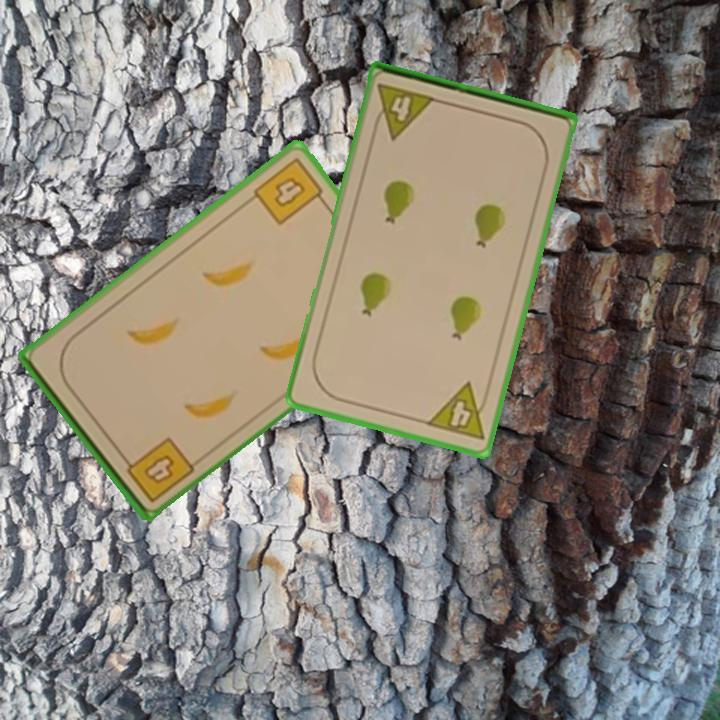4b: (249, 153, 330, 228), (117, 433, 197, 505)
4p: (422, 379, 494, 443), (369, 80, 439, 142)
